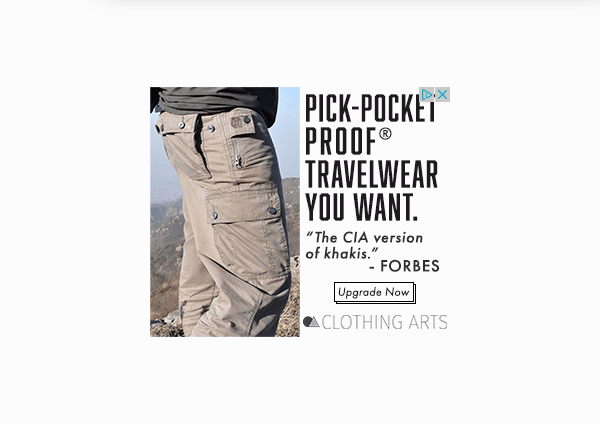fake_button: (325, 270, 430, 313), (416, 84, 458, 108)
